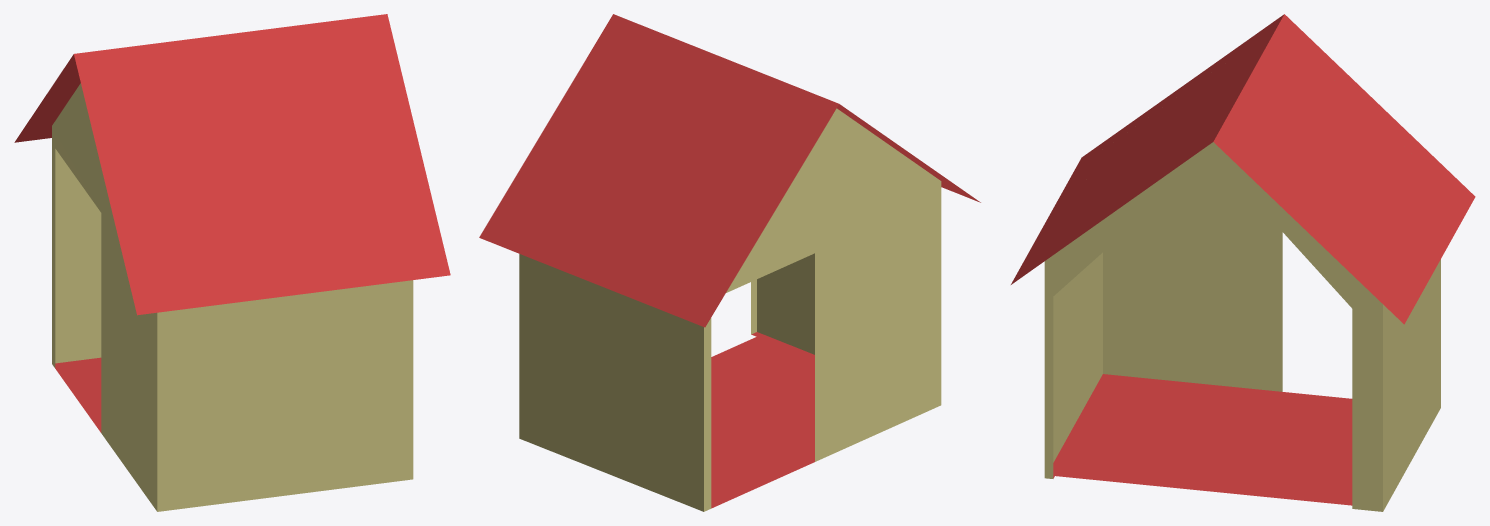
3 views of the same model, side by side, from view 1: azimuth 30°, elevation 25°; view 2: azimuth 150°, elevation 25°; view 3: azimuth 270°, elevation 25° (orthographic). The views are drawn at different scales.
Bounding box in the file's own units: 13.8 × 16.23 × 14.08.
